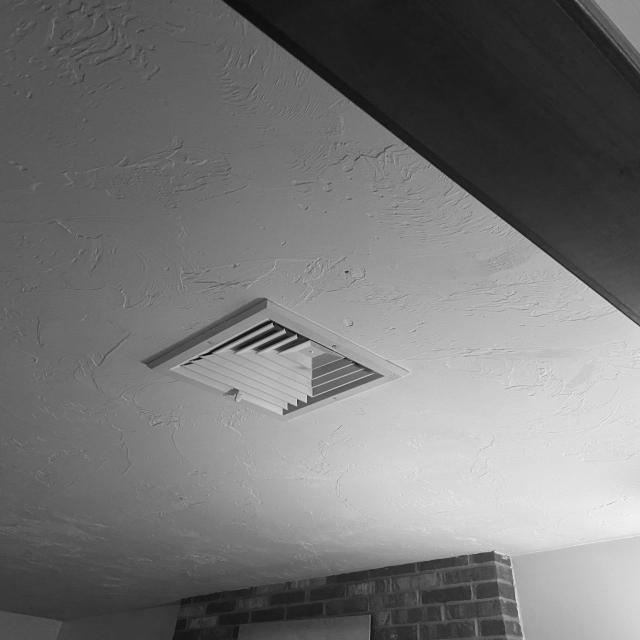pin holes: (339, 262, 358, 280)
